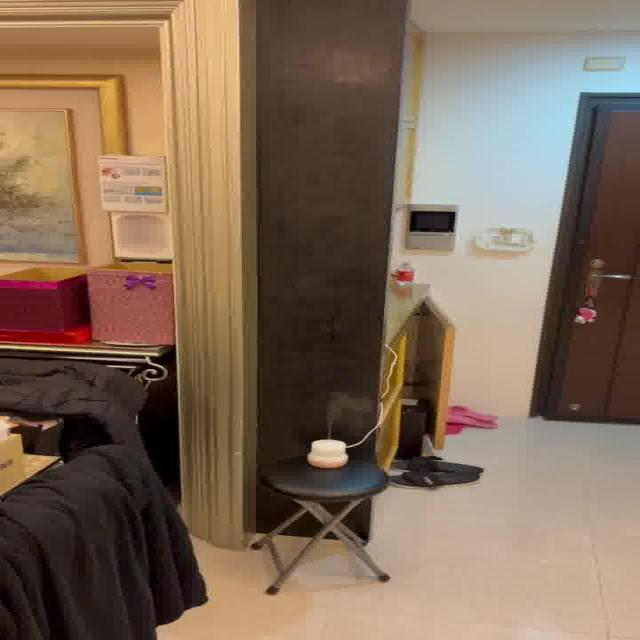fire: (316, 390, 364, 432)
